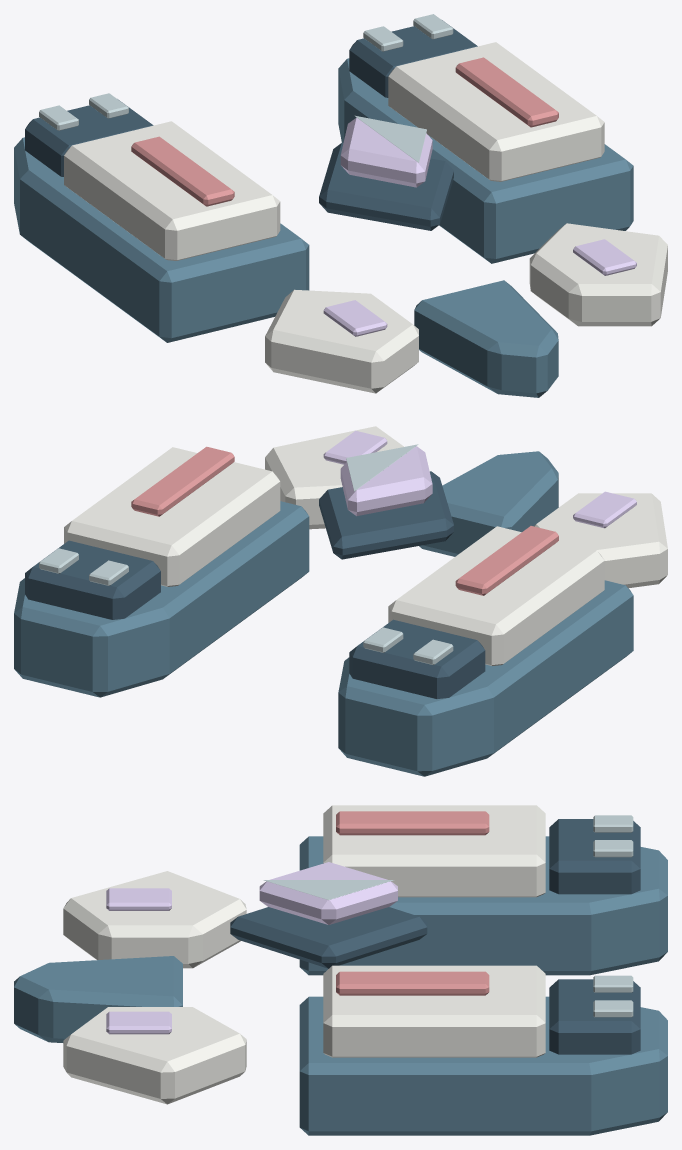
The model's file is missile.glb.
3 renders of one model, top to bottom at view 1: azimuth 30°, elevation 25°; view 2: azimuth 150°, elevation 25°; view 3: azimuth 270°, elevation 25°, orthographic.
Visible parts, largest first — view 1: IndependentMissilePod, IndependentMissilePod.001, PodArmor, PodArmor.001, SeparateAftKeel.001, DetachedAftGuard.002, DetachedAftGuard.003, CoreDarkBacking.001, SuspendedPhaseCore.001, LaunchBay.001, LaunchBay, RedPodSpine (+8 smaller); view 2: IndependentMissilePod, IndependentMissilePod.001, PodArmor, PodArmor.001, SeparateAftKeel.001, DetachedAftGuard.002, LaunchBay, LaunchBay.001, CoreDarkBacking.001, DetachedAftGuard.003, SuspendedPhaseCore.001, RedPodSpine.001 (+8 smaller); view 3: IndependentMissilePod.001, IndependentMissilePod, PodArmor.001, PodArmor, DetachedAftGuard.003, DetachedAftGuard.002, SeparateAftKeel.001, CoreDarkBacking.001, LaunchBay.001, LaunchBay, SuspendedPhaseCore.001, RedPodSpine.001 (+8 smaller).
Part boxes in pixels (x1,y1,x2,y2): IndependentMissilePod: (14, 137, 309, 342); IndependentMissilePod.001: (338, 58, 633, 263); PodArmor: (64, 121, 280, 260); PodArmor.001: (388, 42, 604, 181); SeparateAftKeel.001: (414, 280, 558, 397); DetachedAftGuard.002: (265, 289, 418, 393); DetachedAftGuard.003: (529, 223, 667, 326); CoreDarkBacking.001: (319, 142, 453, 230); SuspendedPhaseCore.001: (340, 117, 432, 187); LaunchBay.001: (349, 20, 477, 97); LaunchBay: (25, 99, 153, 176); RedPodSpine: (131, 136, 234, 206); IndependentMissilePod: (338, 580, 633, 776); IndependentMissilePod.001: (14, 501, 309, 697); PodArmor: (388, 526, 604, 665); PodArmor.001: (64, 447, 280, 586); SeparateAftKeel.001: (419, 451, 558, 556); DetachedAftGuard.002: (534, 493, 667, 588); LaunchBay: (349, 619, 485, 698); LaunchBay.001: (25, 540, 160, 619); CoreDarkBacking.001: (319, 471, 453, 559); DetachedAftGuard.003: (265, 426, 403, 529); SuspendedPhaseCore.001: (340, 446, 432, 516); RedPodSpine.001: (131, 446, 234, 516); IndependentMissilePod.001: (299, 996, 667, 1135); IndependentMissilePod: (299, 836, 667, 975); PodArmor.001: (323, 965, 545, 1057); PodArmor: (323, 805, 545, 897); DetachedAftGuard.003: (63, 1007, 246, 1104); DetachedAftGuard.002: (63, 871, 246, 968); SeparateAftKeel.001: (14, 956, 182, 1042); CoreDarkBacking.001: (230, 907, 427, 968); LaunchBay.001: (549, 979, 640, 1054); LaunchBay: (549, 819, 640, 894); SuspendedPhaseCore.001: (259, 862, 397, 924); RedPodSpine.001: (336, 971, 489, 995).
Bounding box in the file's own units: 1.52 × 0.451 × 1.79.
